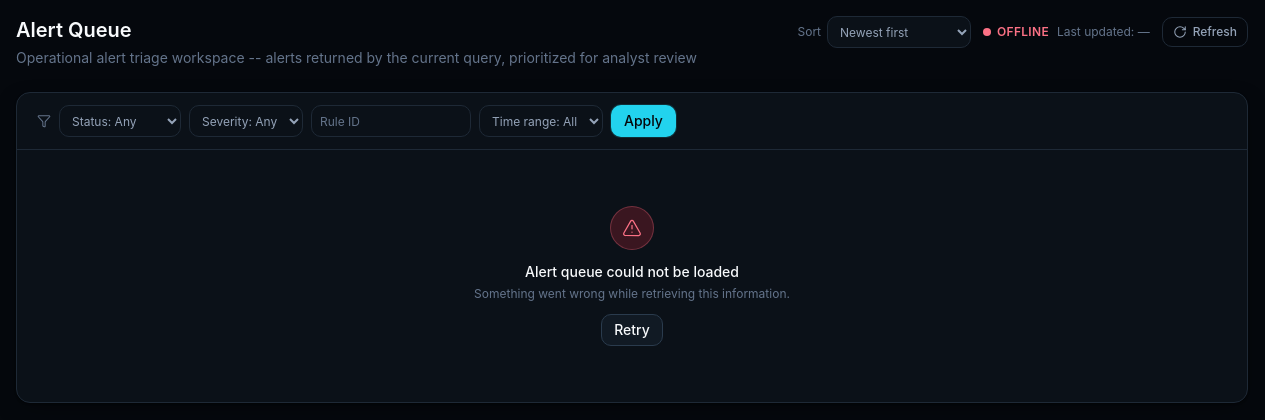
AlertsPage › shows a safe error state on failure, with retry
Expected: the text "Alert queue could not be loaded" is shown, [525,263,739,280]
Click the button "Retry".
click(632, 330)  # box [601,314,663,346]
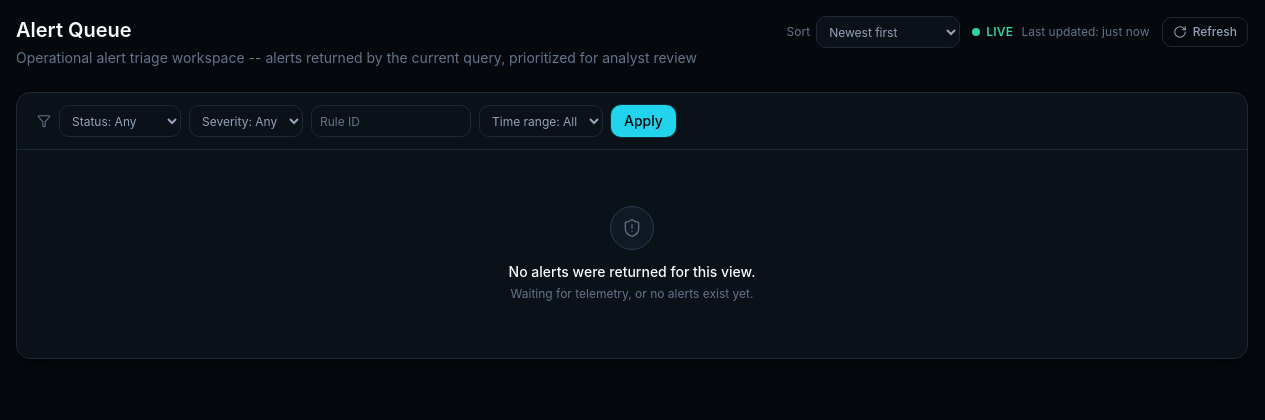
Expected: the text "No alerts were returned for this view." is shown, [509,262,756,282]
